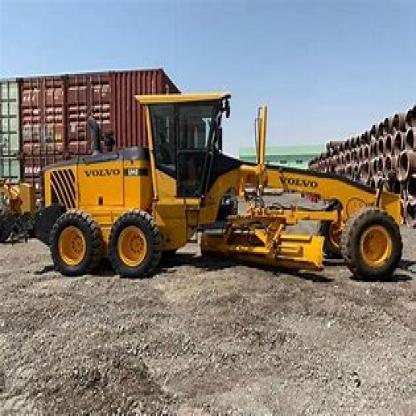bull_dozer/loader/grader: (26, 81, 408, 289)
